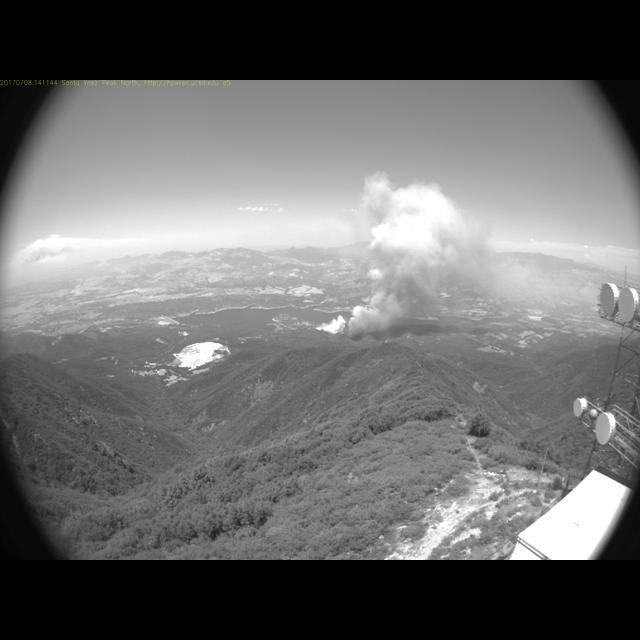Smoke: (309, 164, 517, 338)
